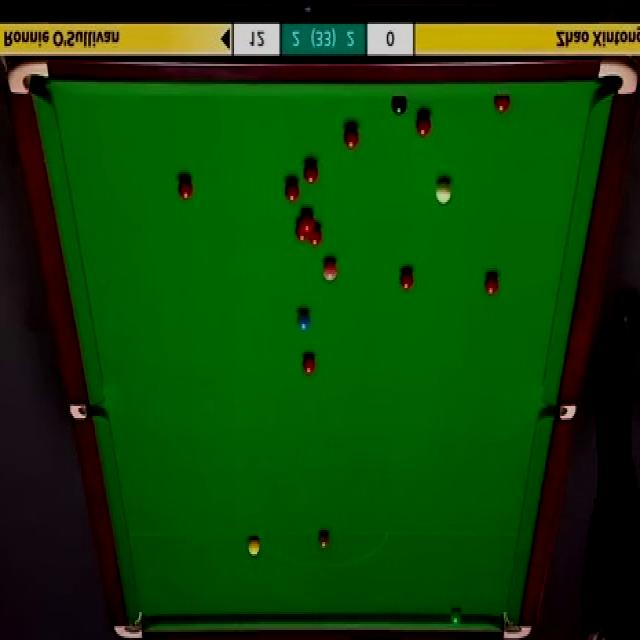black-ball: (389, 94, 407, 116)
blue-ball: (295, 307, 311, 332)
brown-ball: (316, 529, 330, 552)
green-ball: (449, 608, 464, 626)
pink-ball: (323, 258, 338, 286)
red-ball: (398, 265, 416, 293), (302, 157, 319, 185), (177, 174, 194, 201), (343, 124, 360, 151), (414, 111, 431, 137), (284, 179, 300, 204), (302, 350, 318, 374), (484, 272, 499, 297), (308, 222, 322, 246), (494, 94, 510, 114), (301, 210, 314, 230), (295, 222, 308, 242)
white-ball: (434, 178, 452, 205)
yellow-ball: (246, 537, 260, 557)
